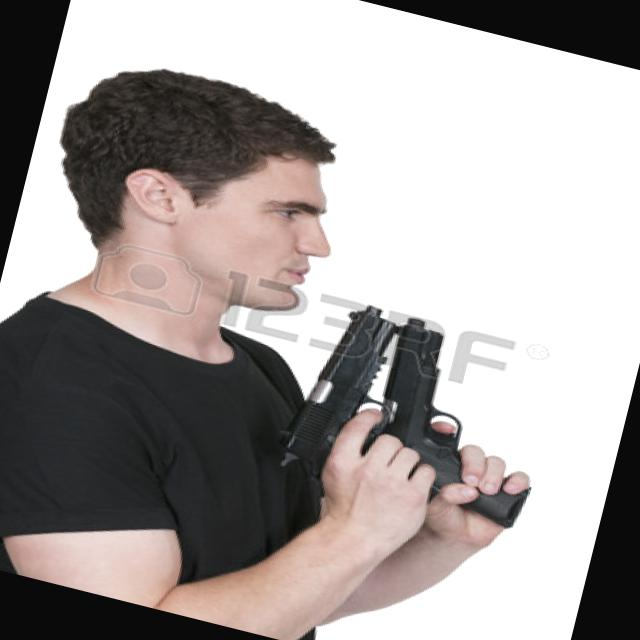handgun: (356, 313, 566, 540), (261, 284, 424, 500)
